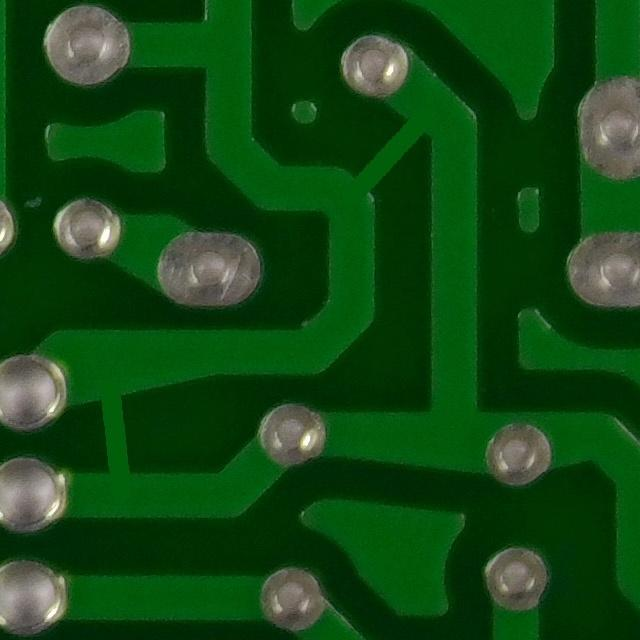short: (305, 84, 457, 206), (59, 367, 182, 506)
